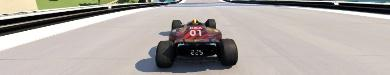Car: (154, 18, 238, 67)
